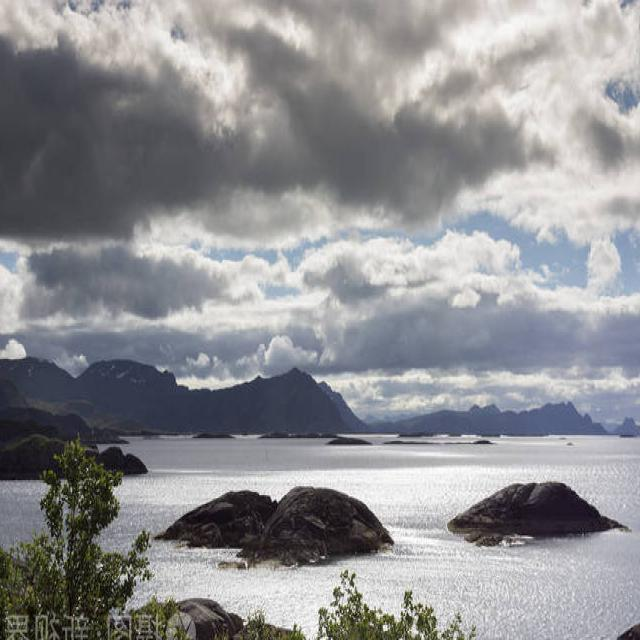reef: (24, 344, 386, 476), (157, 448, 399, 600), (444, 449, 598, 567)
